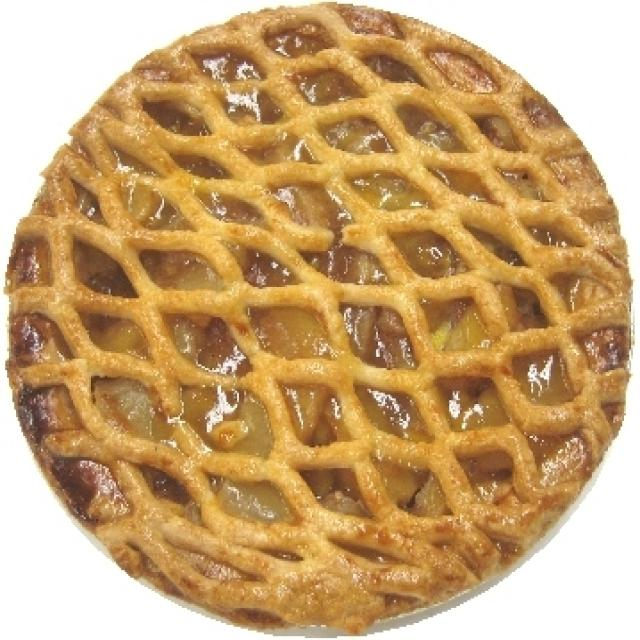炸货点心: (5, 9, 626, 630)
蛋糕甜品: (5, 9, 626, 630)
